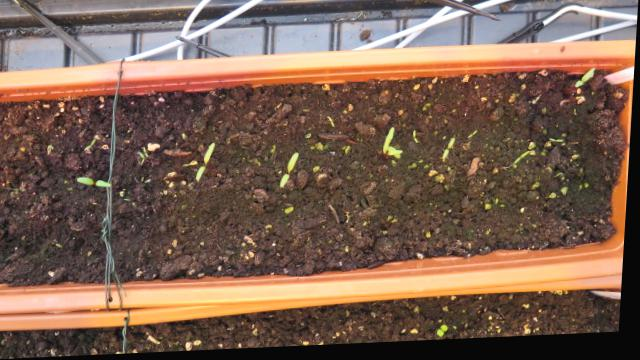crop: (195, 142, 219, 184), (279, 153, 301, 190), (73, 176, 115, 189)
weed: (438, 326, 453, 340)
